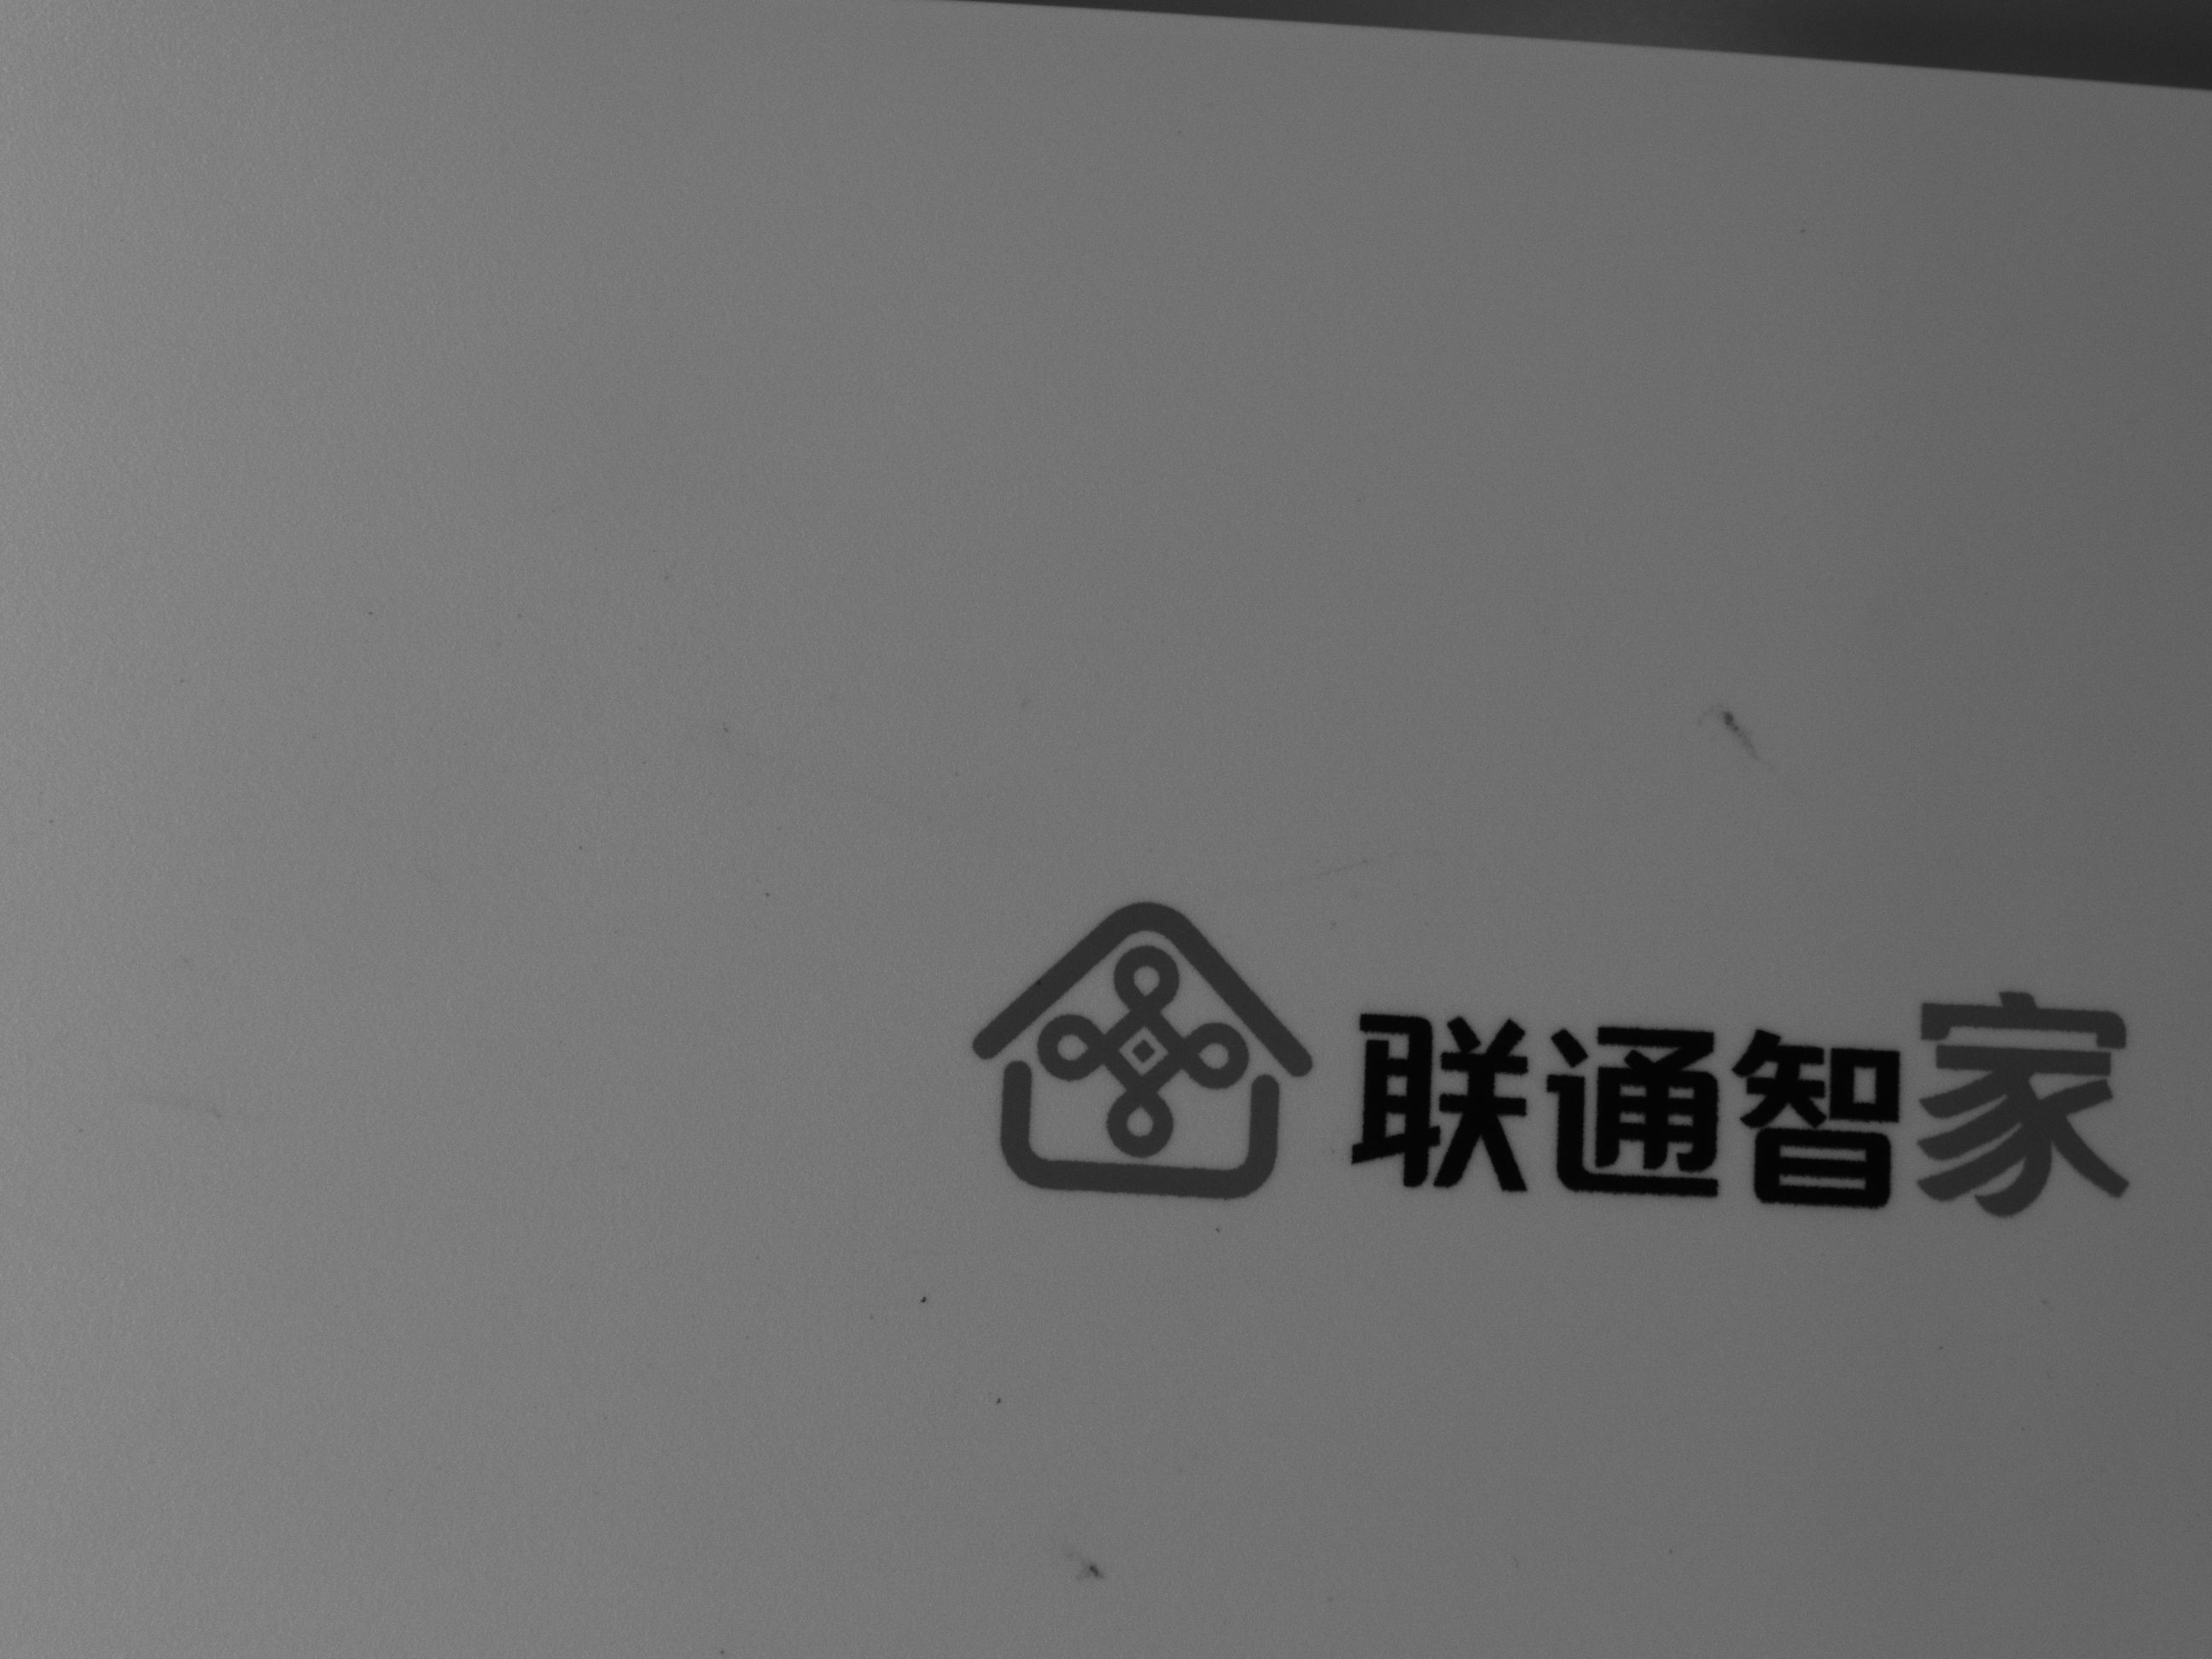BY_F6610Unicome: (904, 866, 2146, 1260)
